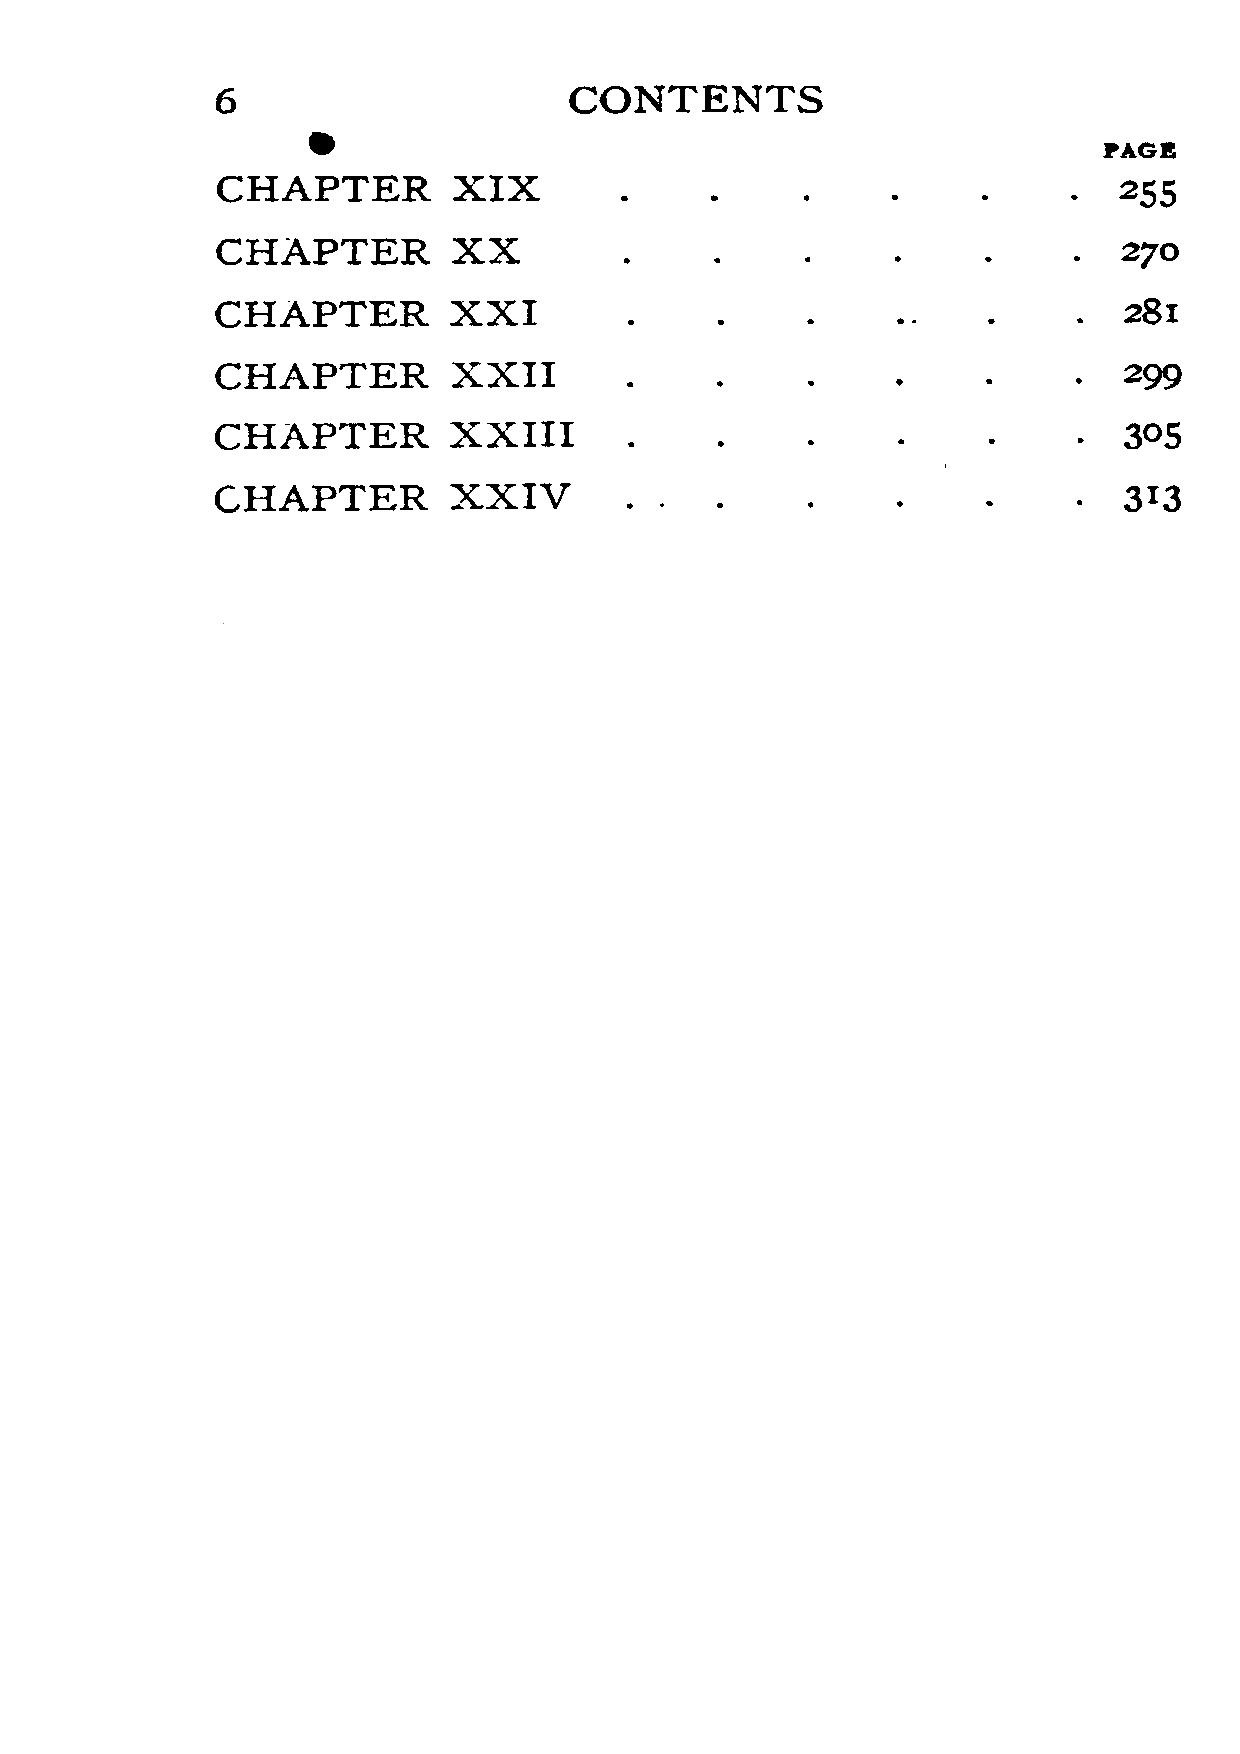TOC_chapter: (208, 475, 578, 523), (209, 164, 544, 212), (208, 356, 560, 397), (203, 413, 578, 450), (208, 229, 521, 272), (209, 293, 541, 326)
TOC_pagenumber: (1117, 173, 1182, 211), (1118, 240, 1188, 274), (1121, 480, 1188, 515), (1121, 360, 1188, 393), (1123, 416, 1184, 452), (1121, 297, 1185, 329)
chapter: (558, 75, 832, 127)
